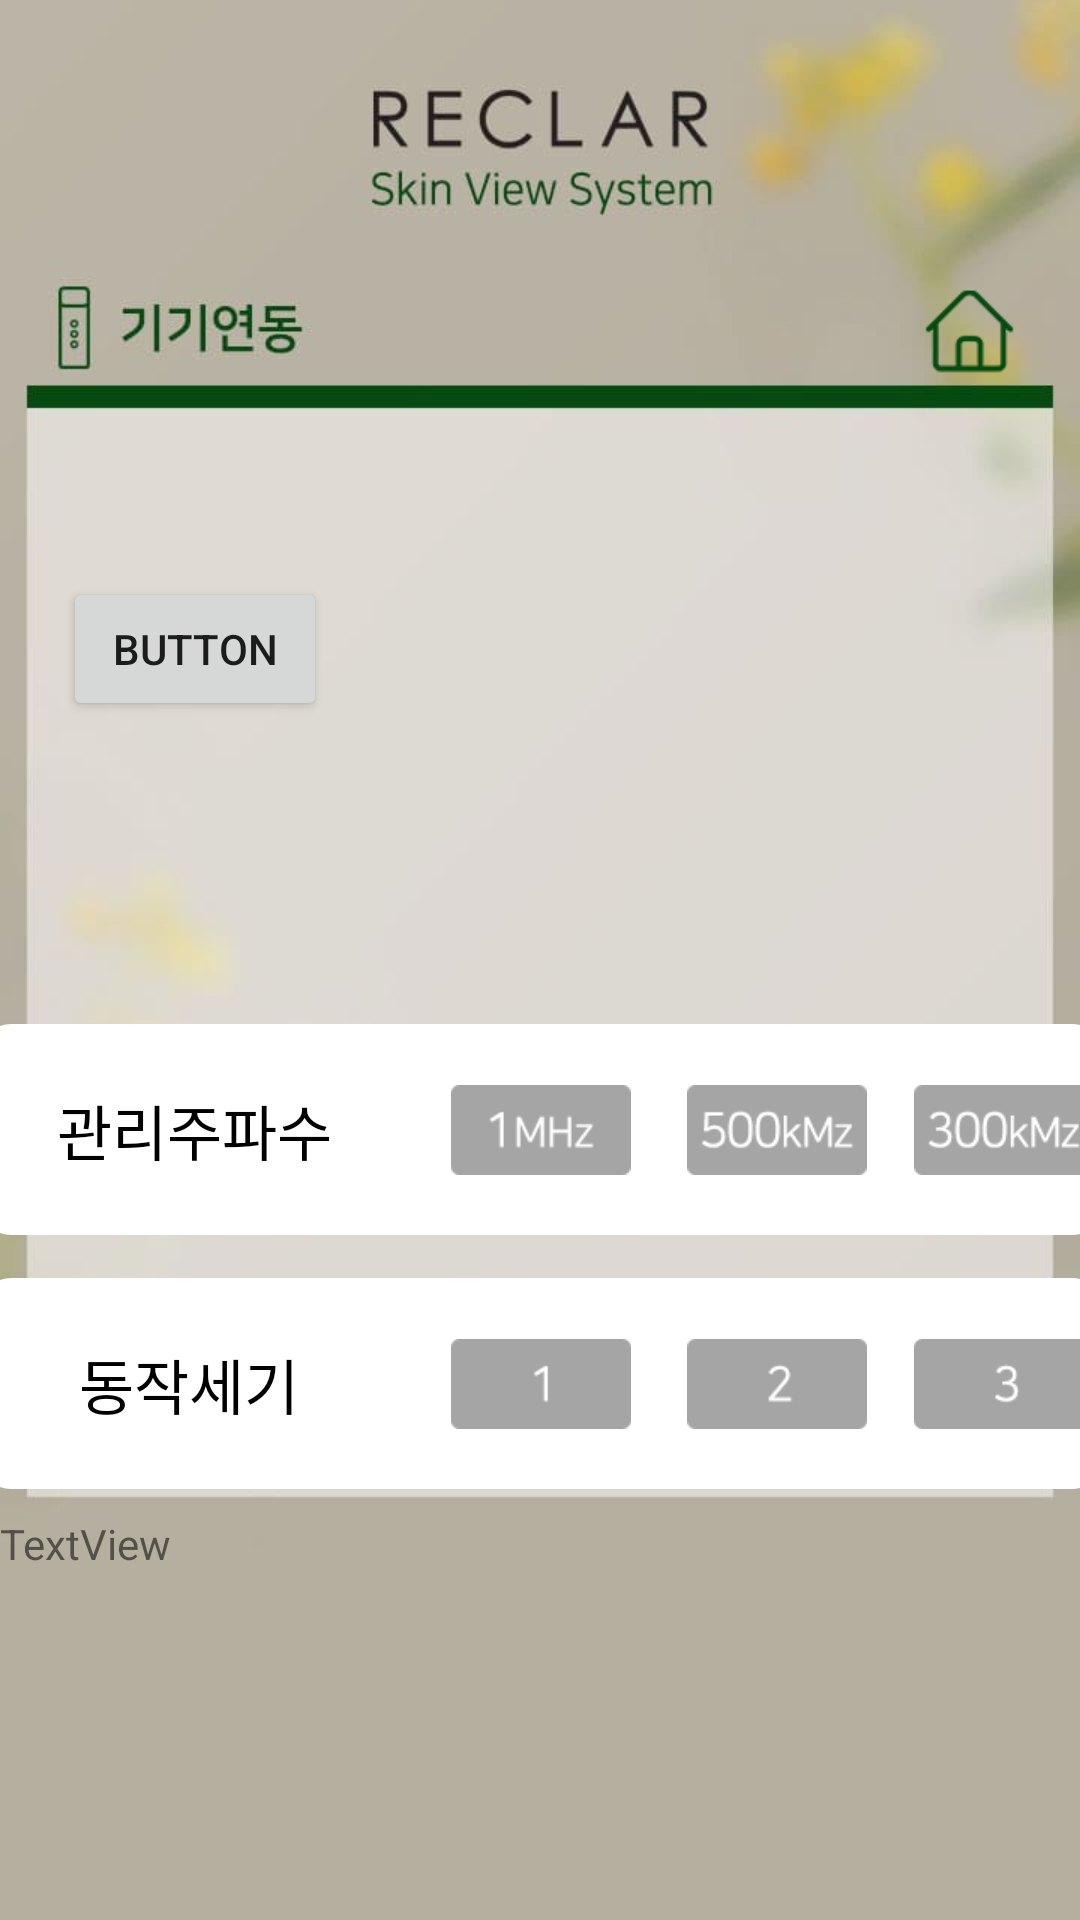

Screen size 1080px x 1920px. Icon name, then its box in pixels as (x1=x1, y1=y1, x2=x2, y2=y2):
home: (x1=920, y1=278, x2=1021, y2=383)
